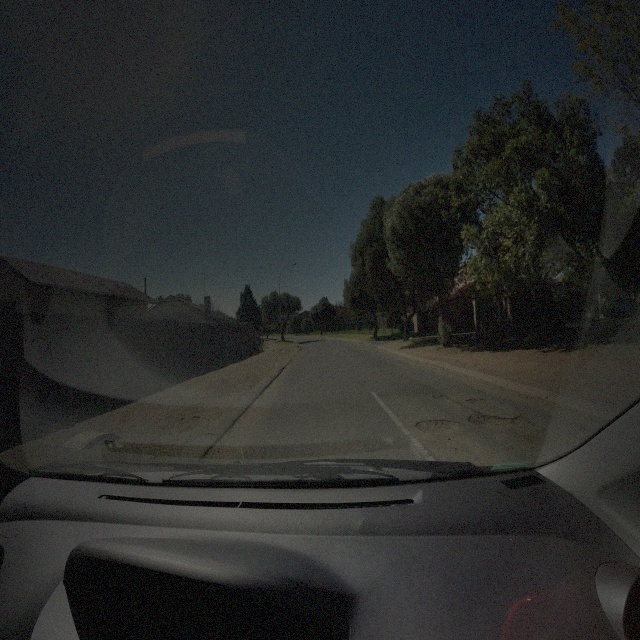pothole: (467, 413, 532, 438), (414, 418, 458, 436), (467, 396, 486, 404), (432, 392, 444, 401)
